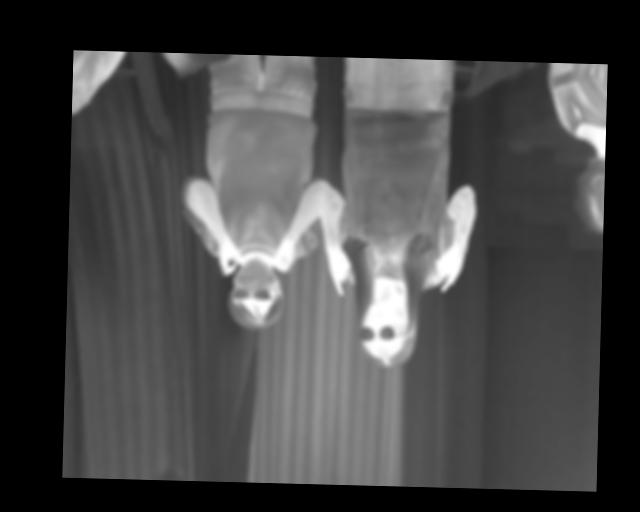face: (228, 258, 284, 330), (358, 299, 413, 367)
